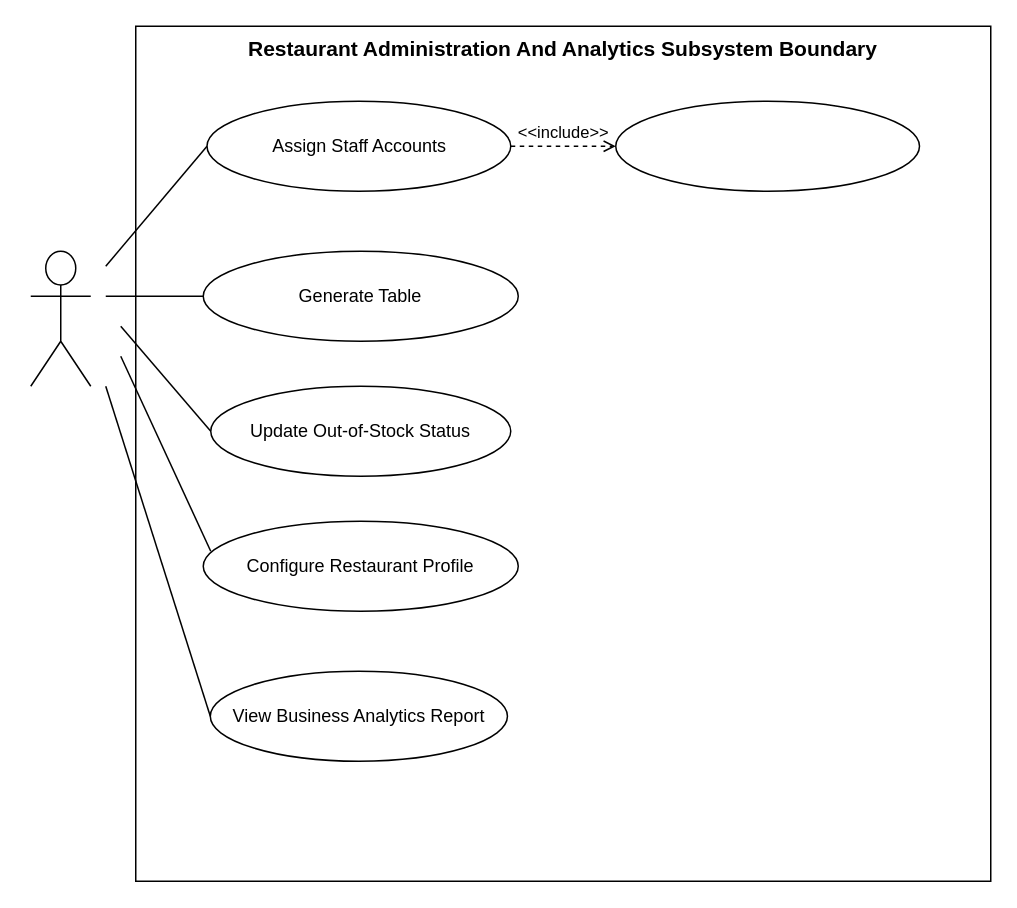
The diagram is 1017 pixels wide and 908 high, and some of its shapes have lost their labels. The box of each missing label's shape, as (x1, y1, x2, y2) in pixels:
Assign Staff Roles: (614, 100, 920, 191)
Manager: (29, 250, 91, 386)
